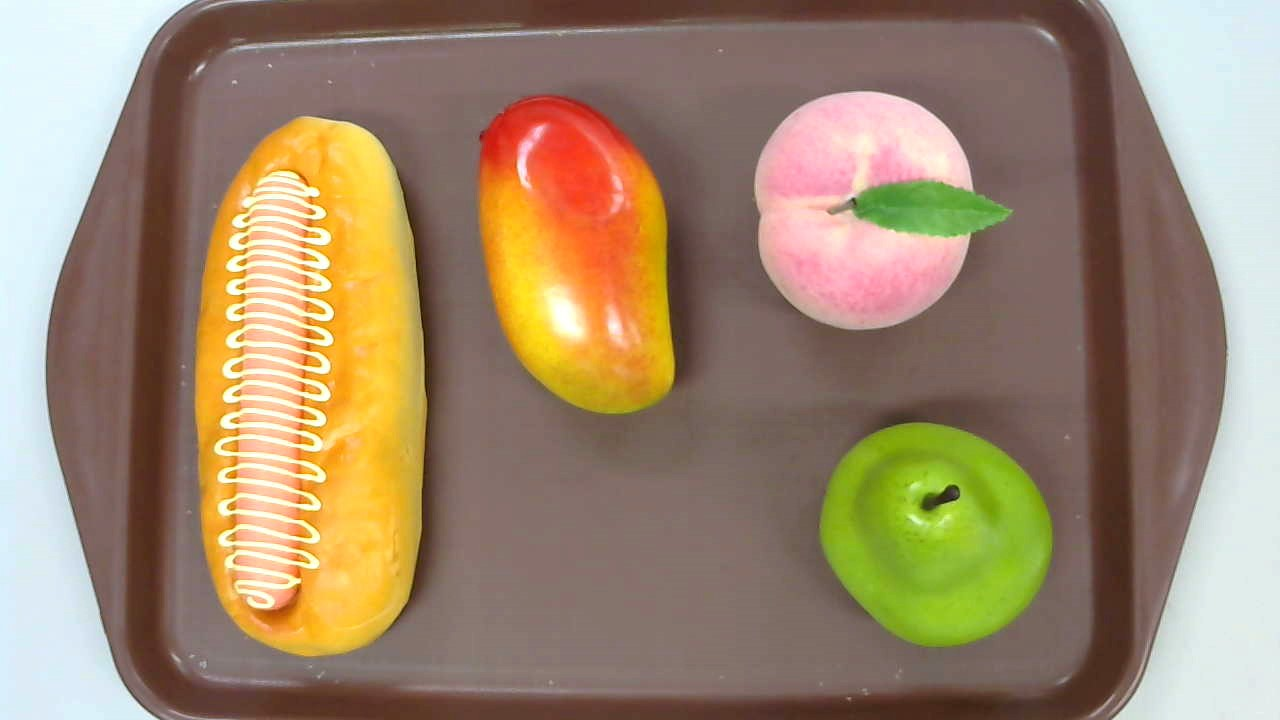green pear: (819, 422, 1053, 646)
hot dog: (192, 114, 428, 658)
peach: (754, 88, 1012, 334)
red mango: (477, 95, 678, 414)
